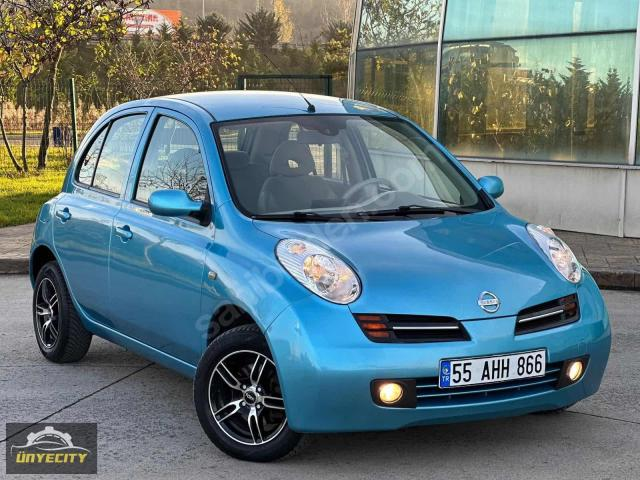plaka: (440, 349, 546, 388)
